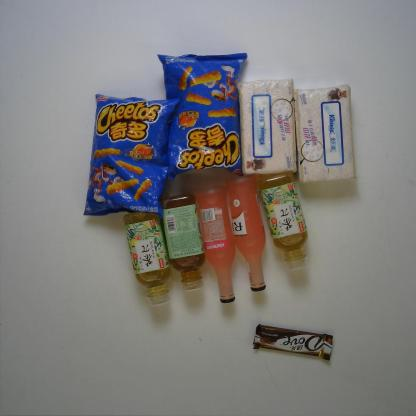Alcohol: (192, 184, 237, 304), (225, 176, 267, 293)
Chocolate: (252, 323, 334, 361)
Drink: (258, 170, 310, 272), (123, 211, 173, 308), (159, 193, 206, 292)
Puffed Food: (82, 93, 180, 220), (156, 52, 248, 182)
Tissue: (294, 83, 357, 183), (237, 78, 298, 178)
